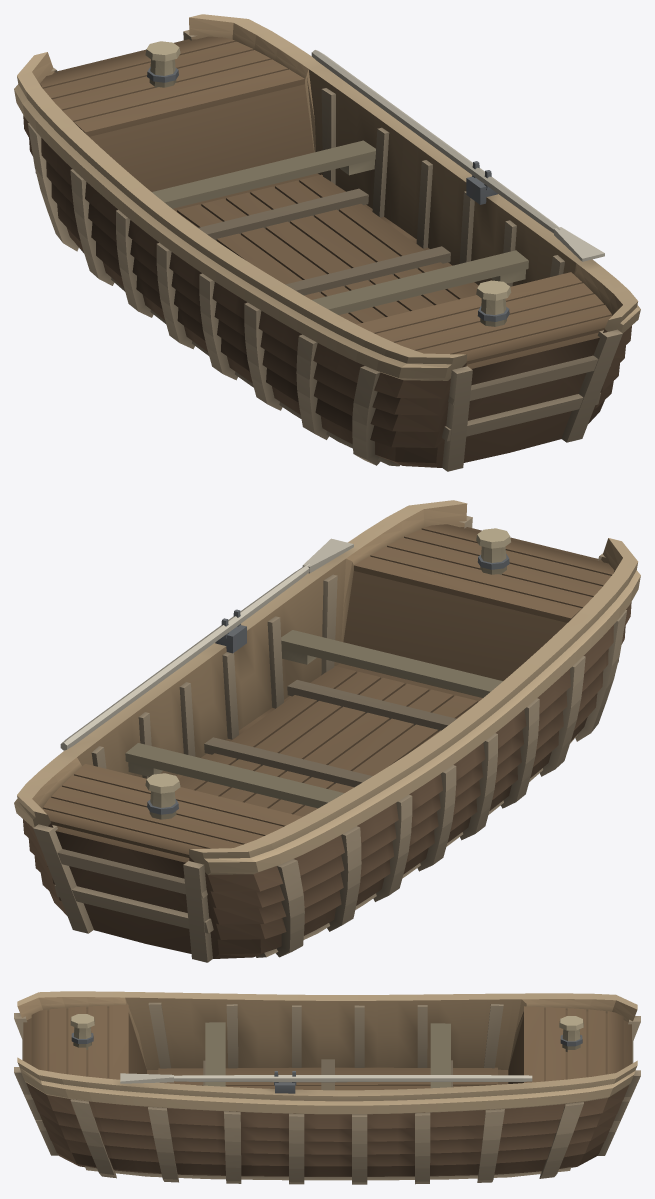
Rendered from barge.glb.
3 renders of one model, top to bottom at view 1: azimuth 30°, elevation 25°; view 2: azimuth 150°, elevation 25°; view 3: azimuth 270°, elevation 25°, orthographic. The views are drawn at different scales.
Visible parts, largest first — view 1: barge; view 2: barge; view 3: barge.
Boxes of the visible parts, bbox=[...] form: barge: bbox=[14, 14, 640, 471]; barge: bbox=[14, 500, 640, 962]; barge: bbox=[14, 991, 640, 1184].
Bounding box in the file's own units: 2.8 × 1.53 × 7.03.
